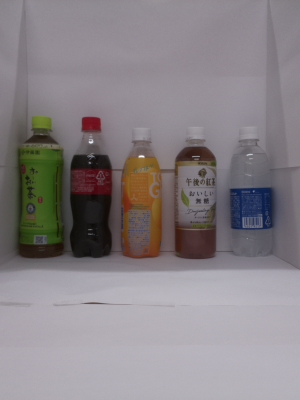おーいお茶: (12, 111, 67, 263)
グレープフルーツスカッシュ: (118, 120, 166, 266)
コーラ: (66, 113, 115, 265)
ポカリスエット: (226, 123, 274, 270)
午後の紅茶: (166, 123, 224, 265)
